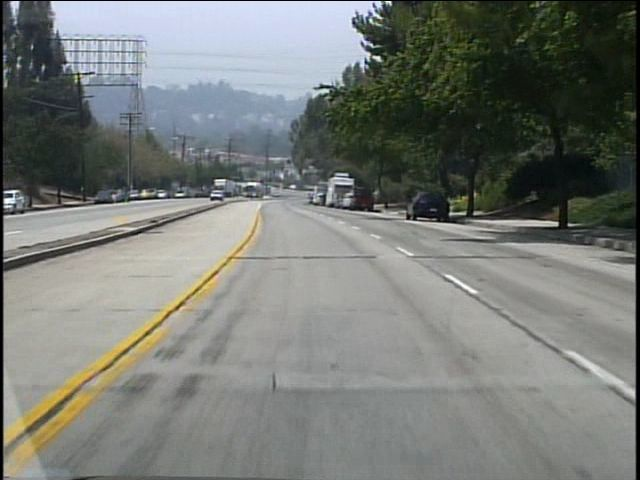person: (371, 183, 383, 209)
